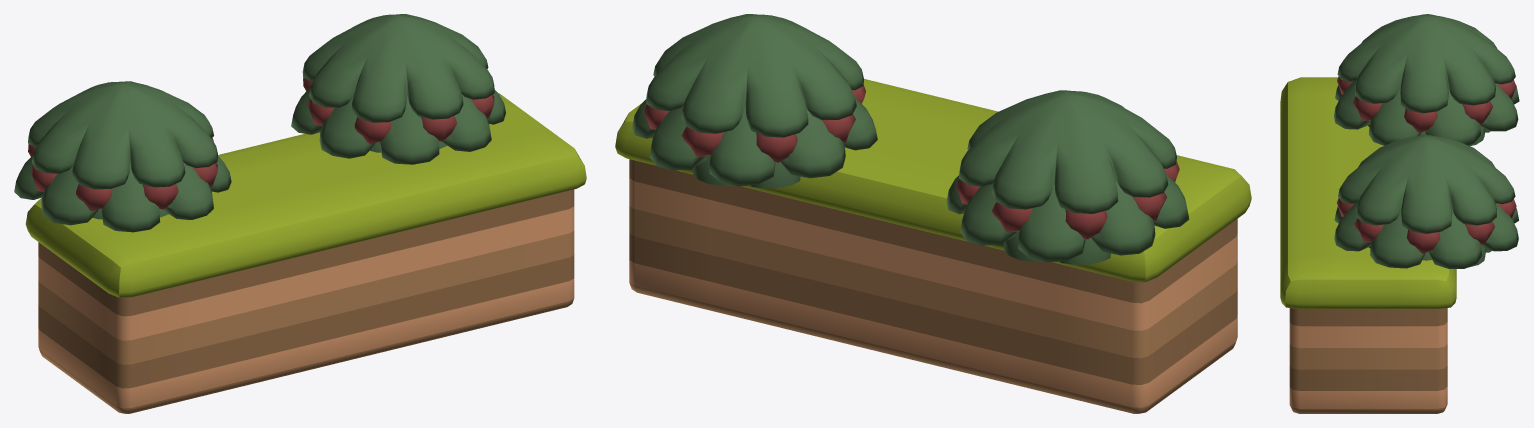
Rendered from Bush_Fruit3.gltf.
3 views of the same model, side by side, from view 1: azimuth 30°, elevation 25°; view 2: azimuth 150°, elevation 25°; view 3: azimuth 270°, elevation 25° (orthographic). The views are drawn at different scales.
Visible parts, largest first — view 1: Bush_Fruit3; view 2: Bush_Fruit3; view 3: Bush_Fruit3.
Part boxes in pixels (bbox=[...]): Bush_Fruit3: bbox=[14, 14, 586, 413]; Bush_Fruit3: bbox=[615, 14, 1251, 413]; Bush_Fruit3: bbox=[1280, 14, 1519, 413].
Size of the model in its own units: 6.27 by 3.28 by 3.03.
